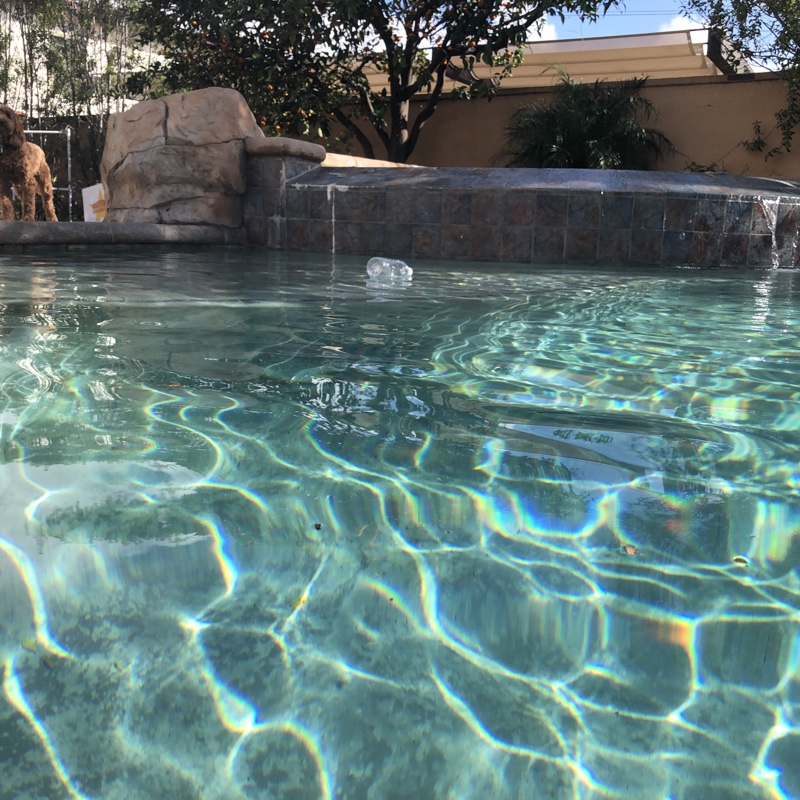Plastic Bottle: (359, 254, 416, 289)
